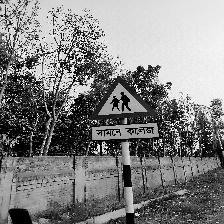College-in-front: (83, 75, 191, 164)
